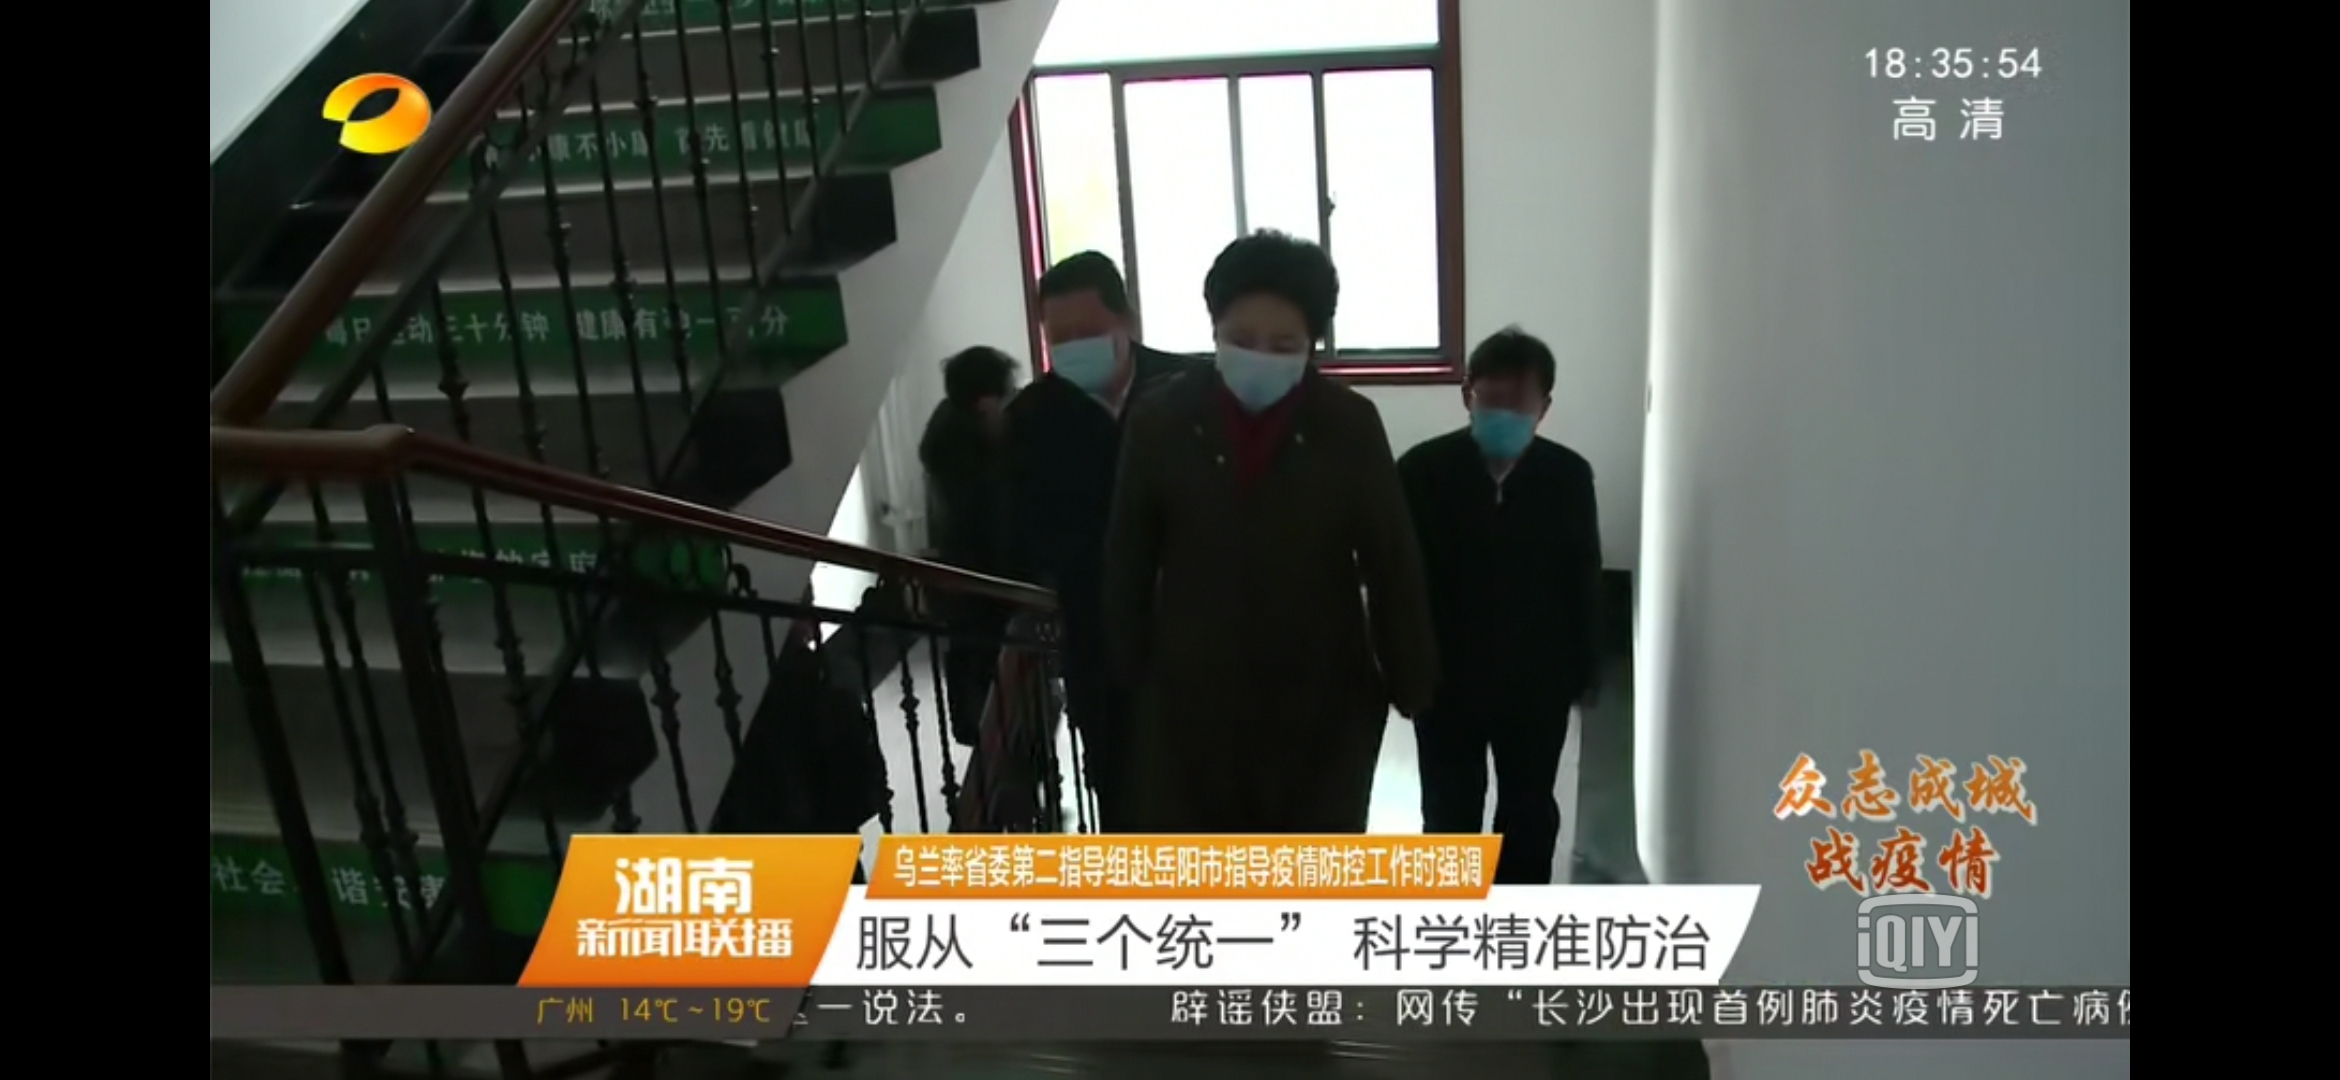correctlyWear: (1209, 313, 1313, 412), (1458, 368, 1554, 462), (1043, 301, 1136, 397)
